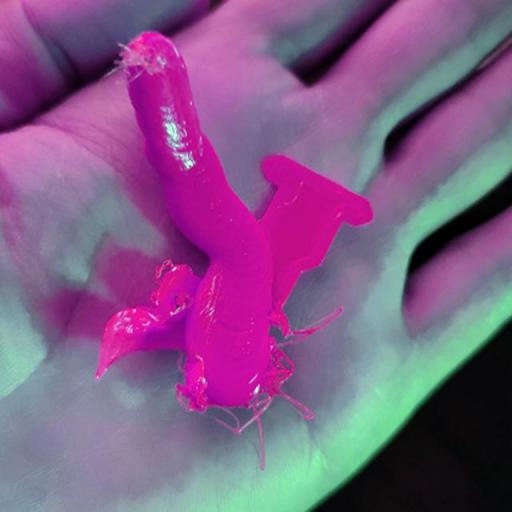spaghetti: (148, 255, 342, 469)
